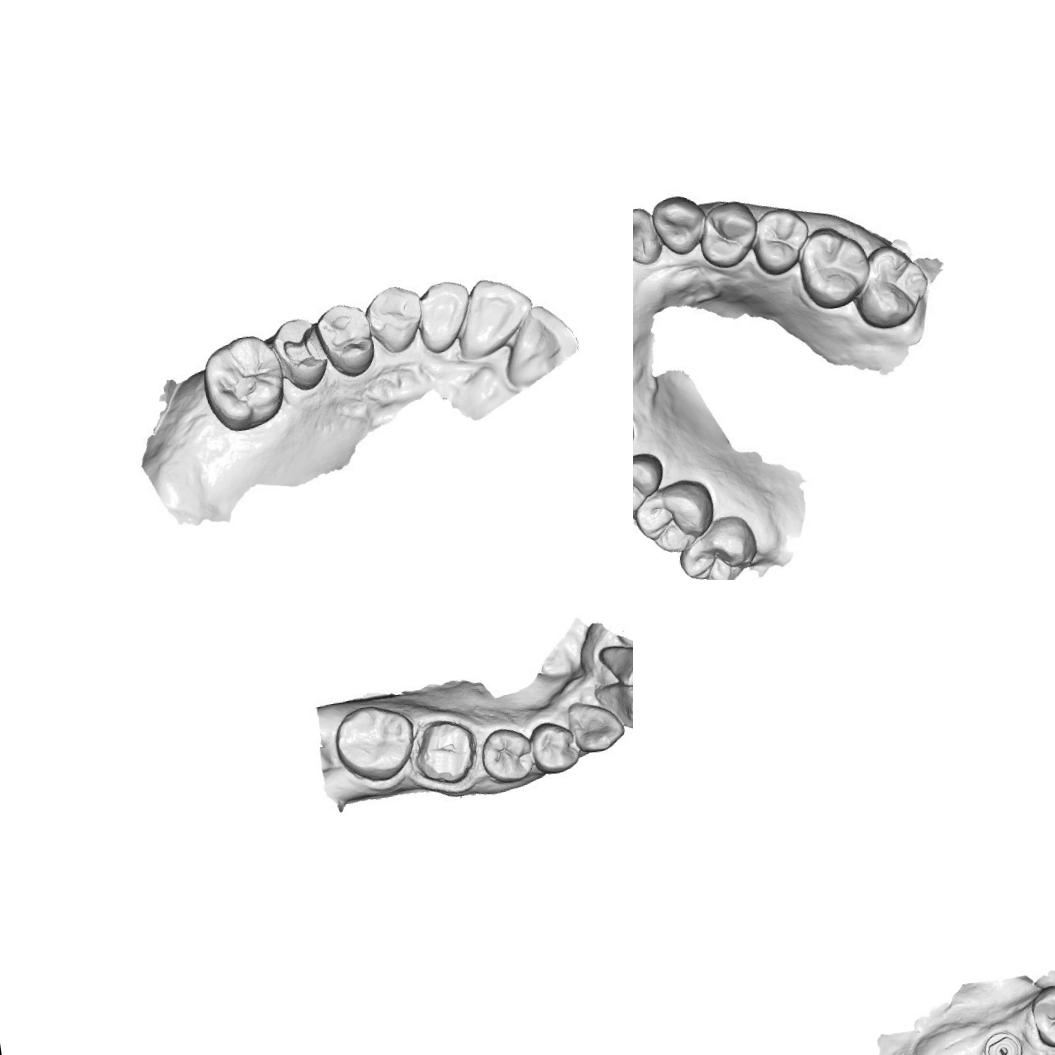canine: (361, 276, 425, 361), (648, 190, 707, 260), (566, 696, 624, 760)
crown: (413, 719, 476, 793)
implant: (979, 1027, 1026, 1055)
incisor: (448, 271, 540, 367), (496, 297, 584, 395), (410, 277, 476, 356), (596, 676, 633, 735), (633, 202, 661, 272), (598, 634, 633, 688)
inlay: (278, 321, 329, 373)
molar: (195, 329, 294, 437), (852, 236, 940, 339), (328, 700, 420, 792), (792, 220, 878, 316), (674, 513, 766, 580), (636, 480, 712, 559)
premolar: (694, 196, 764, 274), (746, 204, 816, 280), (472, 718, 536, 788), (319, 296, 377, 368), (529, 720, 586, 780), (633, 448, 668, 522), (1024, 975, 1055, 1055)
